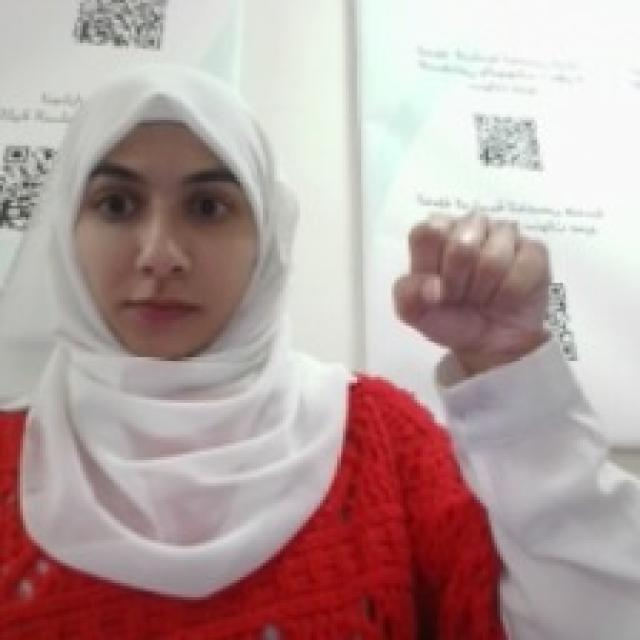yes: (386, 203, 557, 354)
